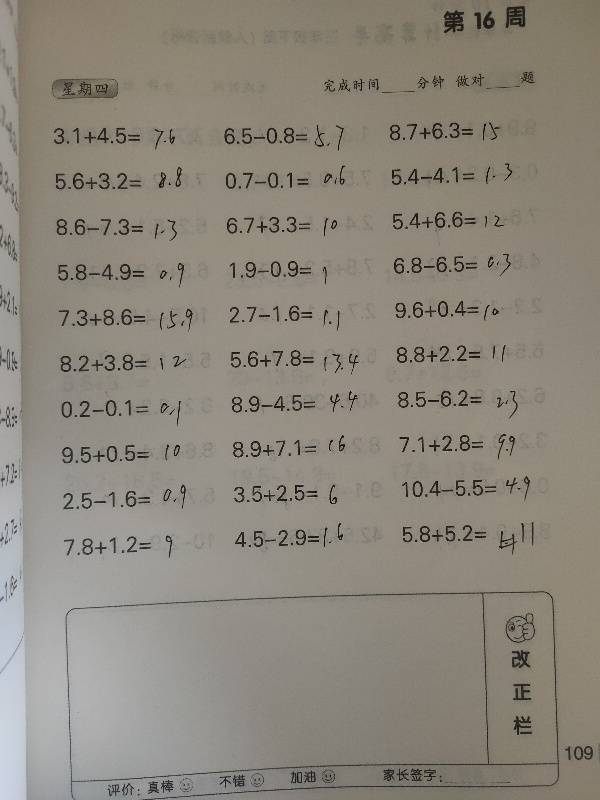equation: (395, 468, 548, 509), (392, 379, 529, 424), (219, 117, 352, 161), (47, 161, 196, 200), (398, 519, 538, 559), (221, 385, 368, 423), (52, 256, 189, 295), (225, 344, 367, 381), (43, 119, 187, 155), (48, 211, 189, 247), (49, 393, 189, 429), (229, 519, 361, 556), (393, 431, 533, 464), (227, 477, 344, 515), (223, 300, 356, 333), (56, 305, 197, 336), (219, 165, 353, 196), (59, 482, 189, 512), (390, 250, 515, 280), (53, 440, 185, 468), (387, 161, 515, 189), (60, 532, 177, 561), (56, 350, 189, 374), (222, 212, 341, 238), (225, 255, 331, 284), (386, 119, 504, 145), (392, 340, 509, 366), (228, 434, 348, 459), (391, 296, 502, 323), (388, 207, 507, 232)
